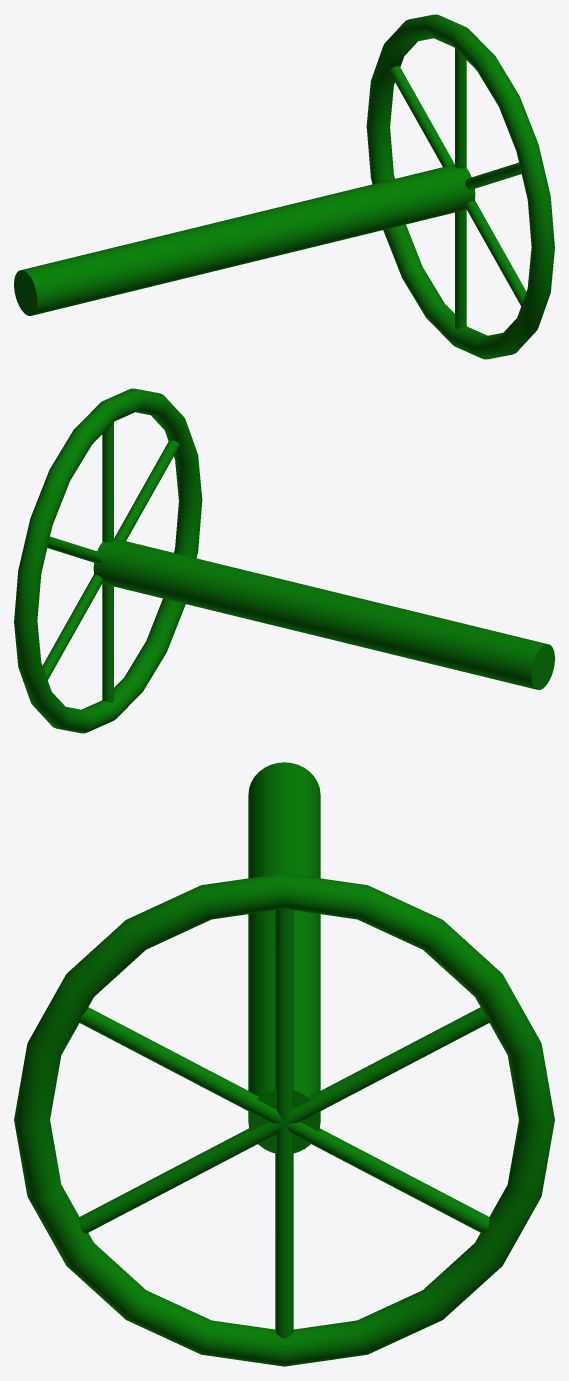
Rendered from Image-1710907724714-2280958034992_VENTILRATT_27.fbx.
The picture shows the model from 3 angles, top to bottom: view 1: azimuth 30°, elevation 25°; view 2: azimuth 150°, elevation 25°; view 3: azimuth 270°, elevation 25°; orthographic projection. The views are drawn at different scales.
Visible parts, largest first — view 1: CYLINDER 1 of SUBEQUIPMENT /FORLENGER_27-4452PV, CTORUS 1 of SUBEQUIPMENT /FORLENGER_27-4452PV, CTORUS 2 of SUBEQUIPMENT /FORLENGER_27-4452PV, CYLINDER 2 of SUBEQUIPMENT /FORLENGER_27-4452PV, CYLINDER 4 of SUBEQUIPMENT /FORLENGER_27-4452PV, CYLINDER 3 of SUBEQUIPMENT /FORLENGER_27-4452PV; view 2: CYLINDER 1 of SUBEQUIPMENT /FORLENGER_27-4452PV, CTORUS 1 of SUBEQUIPMENT /FORLENGER_27-4452PV, CTORUS 2 of SUBEQUIPMENT /FORLENGER_27-4452PV, CYLINDER 2 of SUBEQUIPMENT /FORLENGER_27-4452PV, CYLINDER 3 of SUBEQUIPMENT /FORLENGER_27-4452PV, CYLINDER 4 of SUBEQUIPMENT /FORLENGER_27-4452PV; view 3: CTORUS 1 of SUBEQUIPMENT /FORLENGER_27-4452PV, CTORUS 2 of SUBEQUIPMENT /FORLENGER_27-4452PV, CYLINDER 1 of SUBEQUIPMENT /FORLENGER_27-4452PV, CYLINDER 3 of SUBEQUIPMENT /FORLENGER_27-4452PV, CYLINDER 4 of SUBEQUIPMENT /FORLENGER_27-4452PV, CYLINDER 2 of SUBEQUIPMENT /FORLENGER_27-4452PV.
Boxes of the visible parts, left/top/right/bottom form: CYLINDER 1 of SUBEQUIPMENT /FORLENGER_27-4452PV: left=14, top=164, right=475, bottom=315; CTORUS 1 of SUBEQUIPMENT /FORLENGER_27-4452PV: left=366, top=14, right=554, bottom=252; CTORUS 2 of SUBEQUIPMENT /FORLENGER_27-4452PV: left=366, top=127, right=554, bottom=359; CYLINDER 2 of SUBEQUIPMENT /FORLENGER_27-4452PV: left=455, top=48, right=466, bottom=328; CYLINDER 4 of SUBEQUIPMENT /FORLENGER_27-4452PV: left=389, top=66, right=526, bottom=305; CYLINDER 3 of SUBEQUIPMENT /FORLENGER_27-4452PV: left=465, top=162, right=521, bottom=189; CYLINDER 1 of SUBEQUIPMENT /FORLENGER_27-4452PV: left=93, top=538, right=554, bottom=689; CTORUS 1 of SUBEQUIPMENT /FORLENGER_27-4452PV: left=14, top=388, right=202, bottom=626; CTORUS 2 of SUBEQUIPMENT /FORLENGER_27-4452PV: left=14, top=501, right=202, bottom=733; CYLINDER 2 of SUBEQUIPMENT /FORLENGER_27-4452PV: left=102, top=422, right=113, bottom=702; CYLINDER 3 of SUBEQUIPMENT /FORLENGER_27-4452PV: left=42, top=440, right=179, bottom=679; CYLINDER 4 of SUBEQUIPMENT /FORLENGER_27-4452PV: left=47, top=536, right=103, bottom=563; CTORUS 1 of SUBEQUIPMENT /FORLENGER_27-4452PV: left=14, top=873, right=554, bottom=1127; CTORUS 2 of SUBEQUIPMENT /FORLENGER_27-4452PV: left=14, top=1120, right=554, bottom=1366; CYLINDER 1 of SUBEQUIPMENT /FORLENGER_27-4452PV: left=248, top=762, right=320, bottom=1153; CYLINDER 3 of SUBEQUIPMENT /FORLENGER_27-4452PV: left=79, top=1007, right=489, bottom=1233; CYLINDER 4 of SUBEQUIPMENT /FORLENGER_27-4452PV: left=79, top=1007, right=489, bottom=1233; CYLINDER 2 of SUBEQUIPMENT /FORLENGER_27-4452PV: left=275, top=909, right=293, bottom=1338.
Bounding box in the file's own units: 0.8727 × 0.6 × 0.6.
